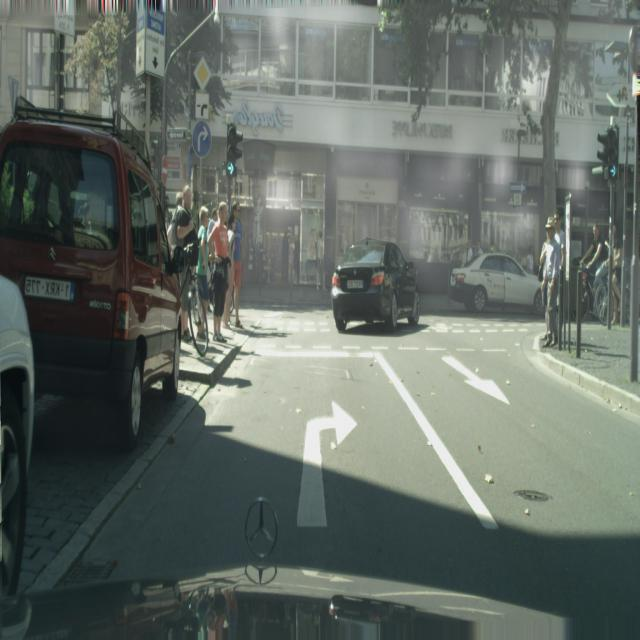car: (571, 222, 608, 323), (594, 223, 627, 328), (178, 253, 209, 356), (97, 252, 131, 315), (43, 259, 80, 316), (15, 253, 44, 314)
person: (208, 201, 231, 344), (538, 215, 561, 349), (171, 185, 199, 263), (228, 203, 243, 328), (196, 206, 211, 328), (167, 190, 186, 247), (313, 223, 325, 296), (278, 227, 290, 283)
truck: (0, 101, 184, 452), (0, 274, 36, 607), (331, 241, 421, 332), (449, 251, 544, 315)
